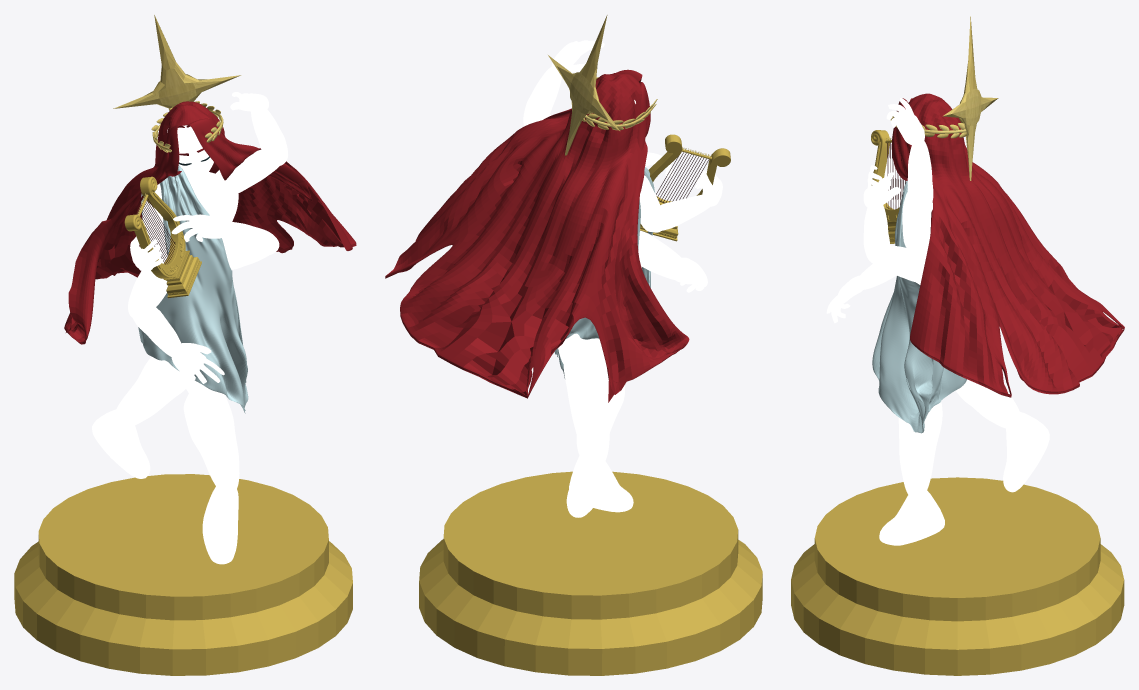
The model's file is Concept of Passion final.glb.
3 renders of one model, left to right at view 1: azimuth 30°, elevation 25°; view 2: azimuth 150°, elevation 25°; view 3: azimuth 270°, elevation 25°, orthographic. The views are drawn at different scales.
Visible parts, largest first — view 1: Harp_LP(after HP), Head, Back Hair, Toga; view 2: Harp_LP(after HP), Back Hair, Head, Toga; view 3: Harp_LP(after HP), Back Hair, Head, Toga.
Part boxes in pixels (x1,y1,x2,y2): Harp_LP(after HP): [14, 15, 352, 675]; Head: [92, 92, 287, 564]; Back Hair: [64, 101, 356, 344]; Toga: [138, 165, 248, 413]; Harp_LP(after HP): [419, 15, 762, 675]; Back Hair: [385, 69, 689, 402]; Head: [523, 40, 722, 517]; Toga: [554, 167, 654, 378]; Harp_LP(after HP): [791, 16, 1124, 675]; Back Hair: [891, 93, 1124, 397]; Head: [826, 98, 1049, 545]; Toga: [872, 181, 966, 433].
Size of the model in its own units: 3.25 by 5.7 by 2.97.
Materials: 8 (1 with a texture image).
